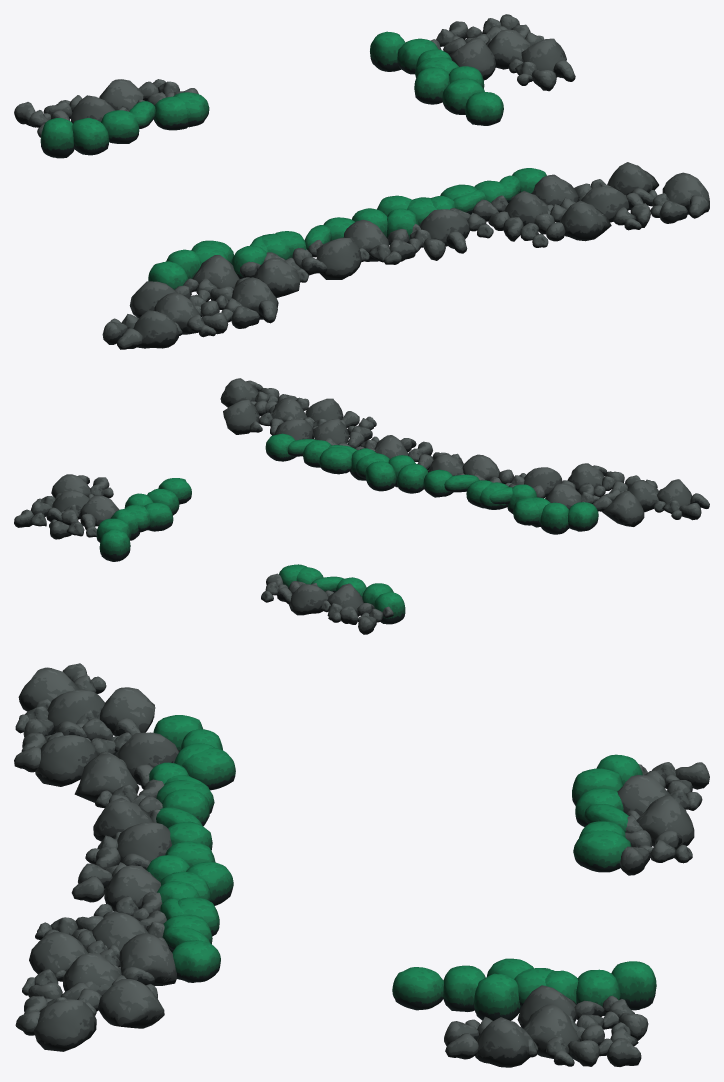
File: Props lvl 7.fbx
The picture shows the model from 3 angles, top to bottom: view 1: azimuth 30°, elevation 25°; view 2: azimuth 150°, elevation 25°; view 3: azimuth 270°, elevation 25°; orthographic projection. The views are drawn at different scales.
Visible parts, largest first — view 1: rock.009; view 2: rock.009; view 3: rock.009.
Boxes of the visible parts, bbox=[...] form: rock.009: bbox=[14, 14, 709, 349]; rock.009: bbox=[14, 378, 709, 634]; rock.009: bbox=[14, 663, 709, 1067].
Bounding box in the file's own units: 2874 × 172 × 2171.
